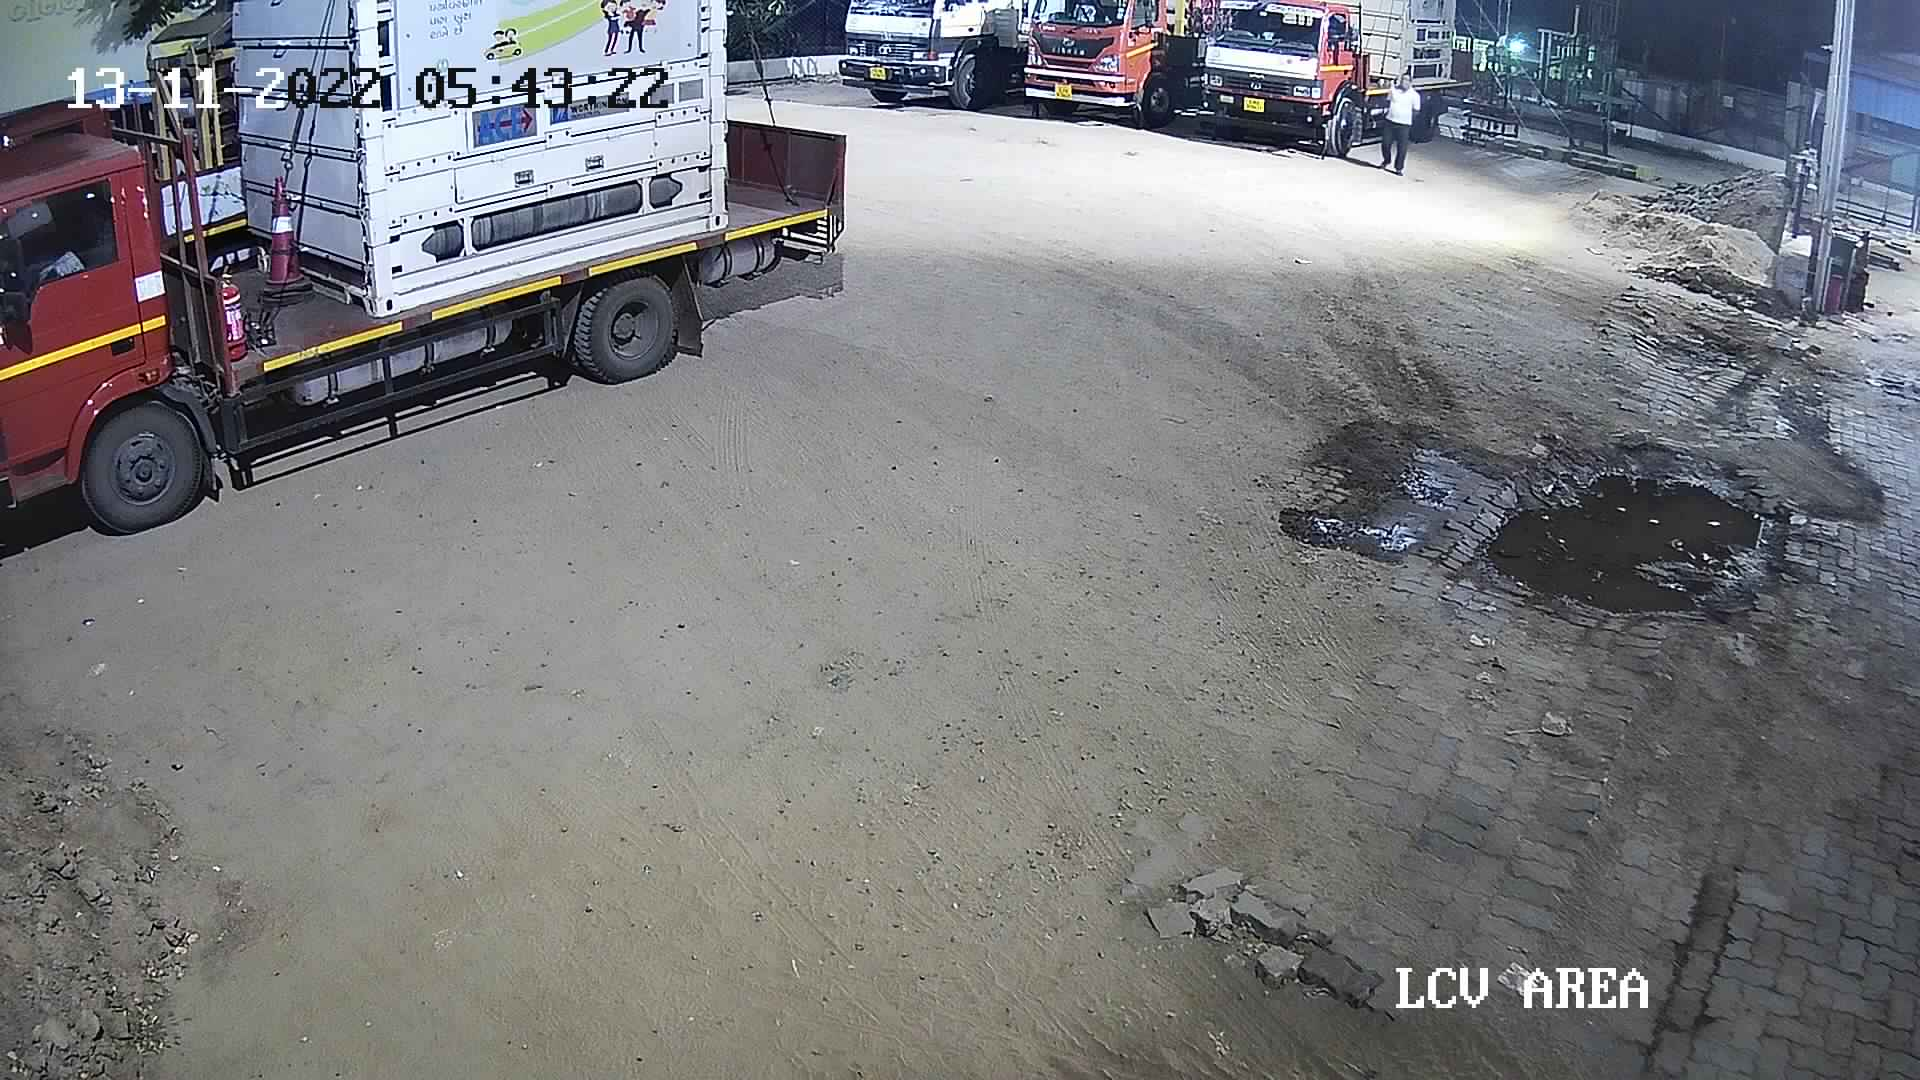HMV: (0, 0, 855, 541), (0, 0, 264, 280), (1185, 0, 1491, 160), (1010, 0, 1220, 131), (829, 1, 1040, 113)
